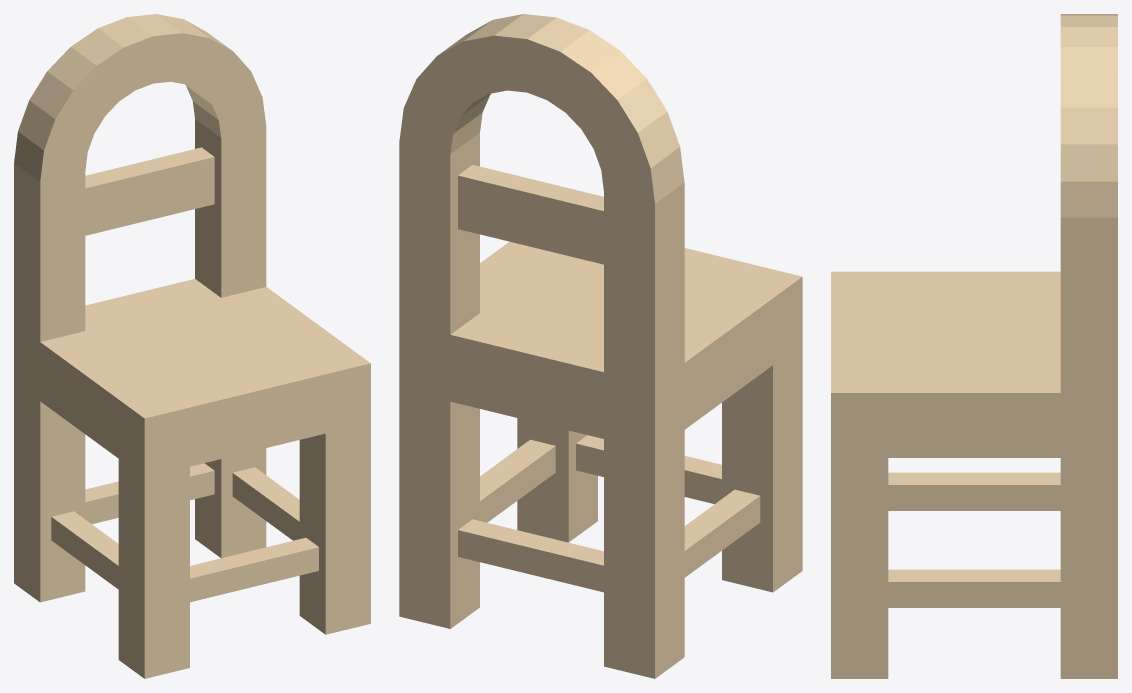
The model's file is chairRounded.glb.
3 renders of one model, left to right at view 1: azimuth 30°, elevation 25°; view 2: azimuth 150°, elevation 25°; view 3: azimuth 270°, elevation 25°, orthographic. The views are drawn at different scales.
Visible parts, largest first — view 1: chairRounded(Clone); view 2: chairRounded(Clone); view 3: chairRounded(Clone).
Boxes of the visible parts, left/top/right/bottom form: chairRounded(Clone): left=14, top=14, right=370, bottom=678; chairRounded(Clone): left=399, top=14, right=802, bottom=678; chairRounded(Clone): left=831, top=14, right=1117, bottom=678.
Bounding box in the file's own units: 0.2 × 0.455 × 0.2.
